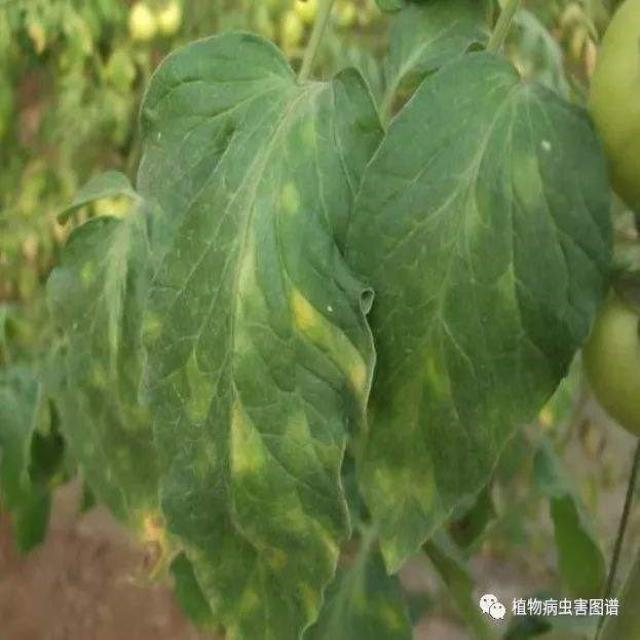Leaf_Mold: (282, 281, 369, 417), (257, 499, 339, 634), (371, 456, 440, 574), (119, 499, 201, 587), (221, 399, 268, 484)
